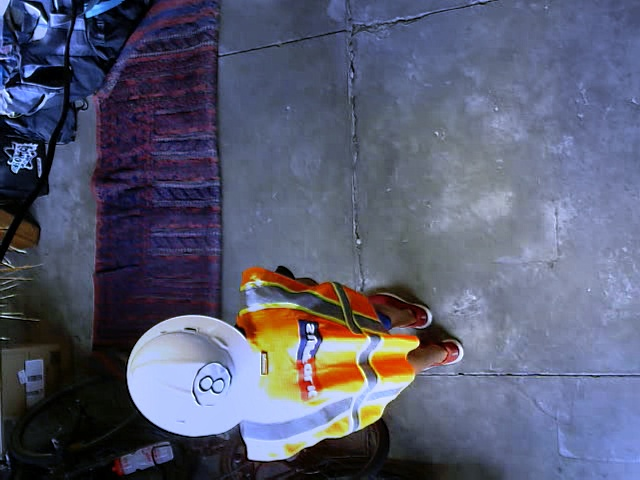eight: (192, 360, 231, 408)
